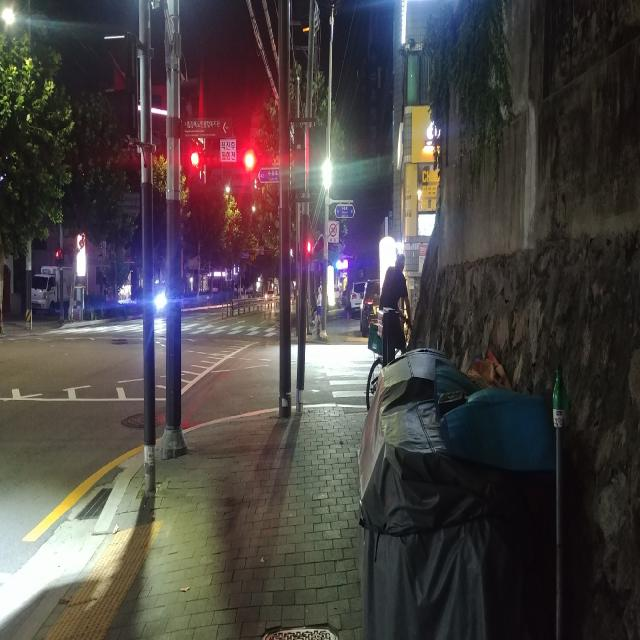빨간불: (307, 242, 312, 263)
횡단보도: (322, 357, 402, 399), (184, 322, 273, 336), (75, 323, 136, 331)
